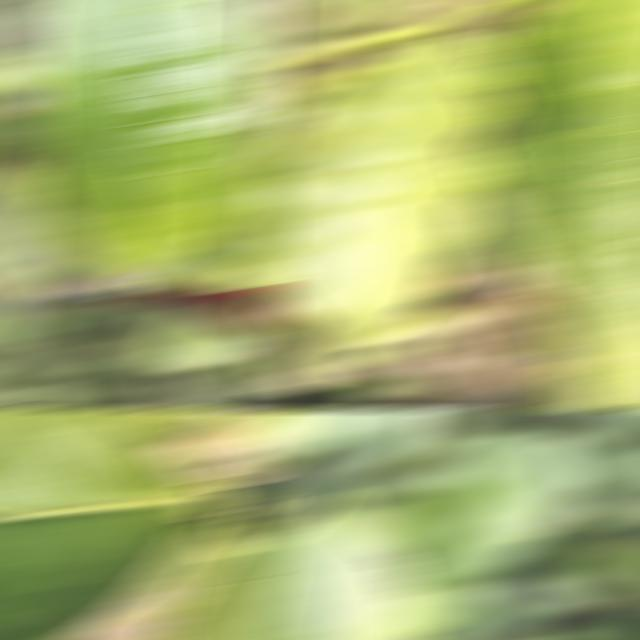Leaf: (256, 35, 503, 368), (15, 2, 273, 279), (472, 2, 640, 407), (0, 411, 212, 638), (393, 434, 580, 600), (256, 494, 422, 638), (0, 168, 51, 353), (554, 437, 640, 524), (148, 308, 261, 369), (173, 411, 280, 471), (339, 411, 438, 467), (102, 411, 221, 441)
